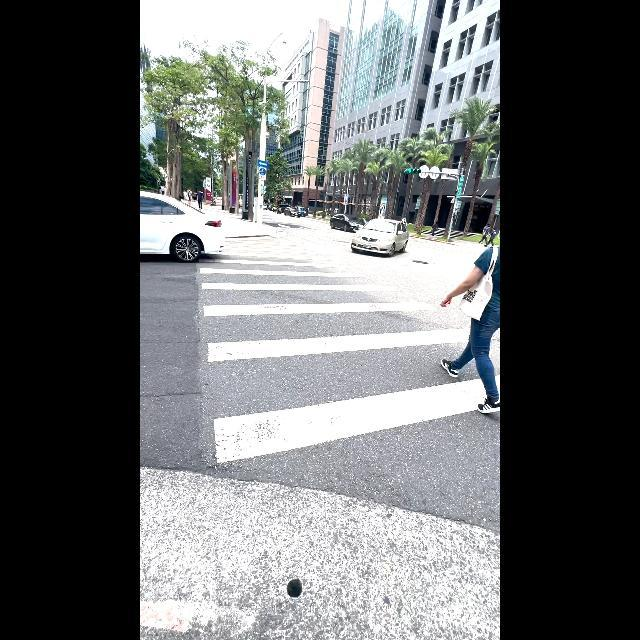sidewalk: (204, 243, 500, 483)
